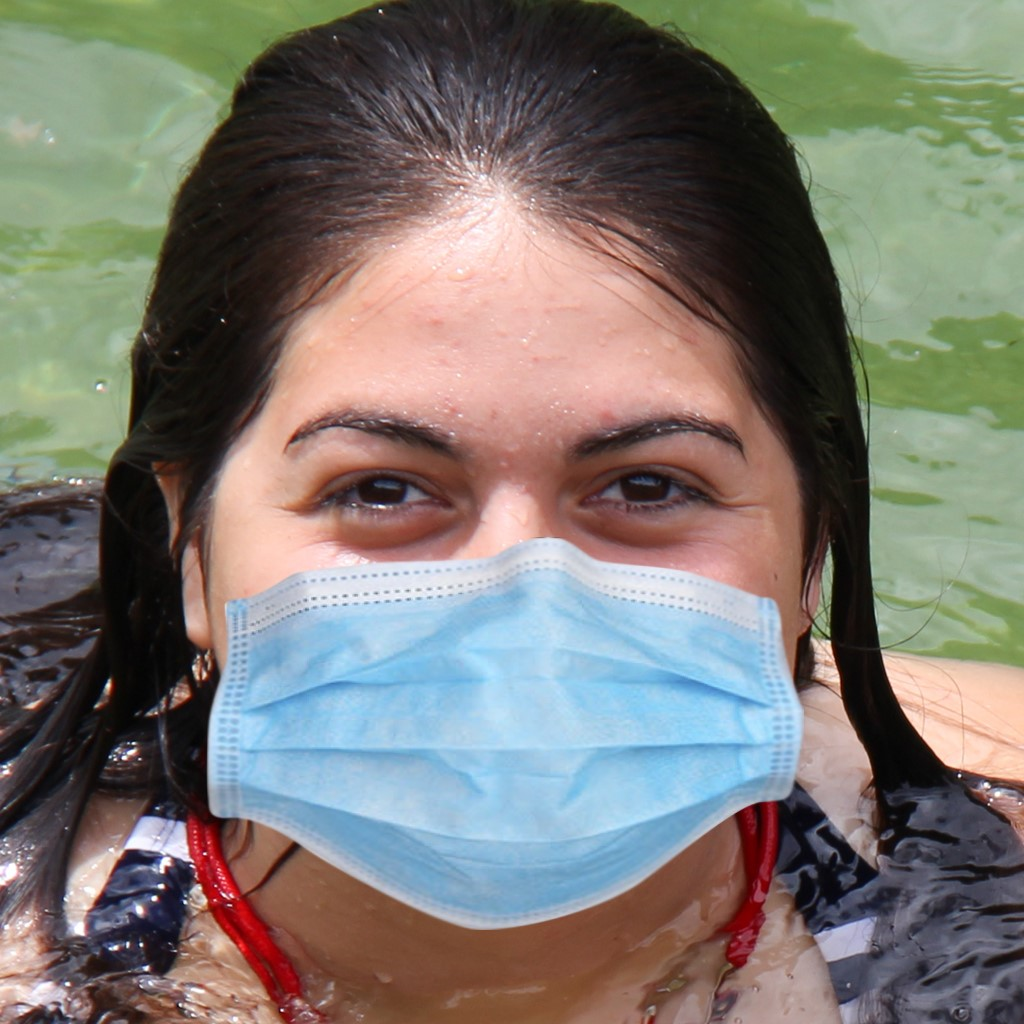con_mascara: (197, 93, 840, 955)
